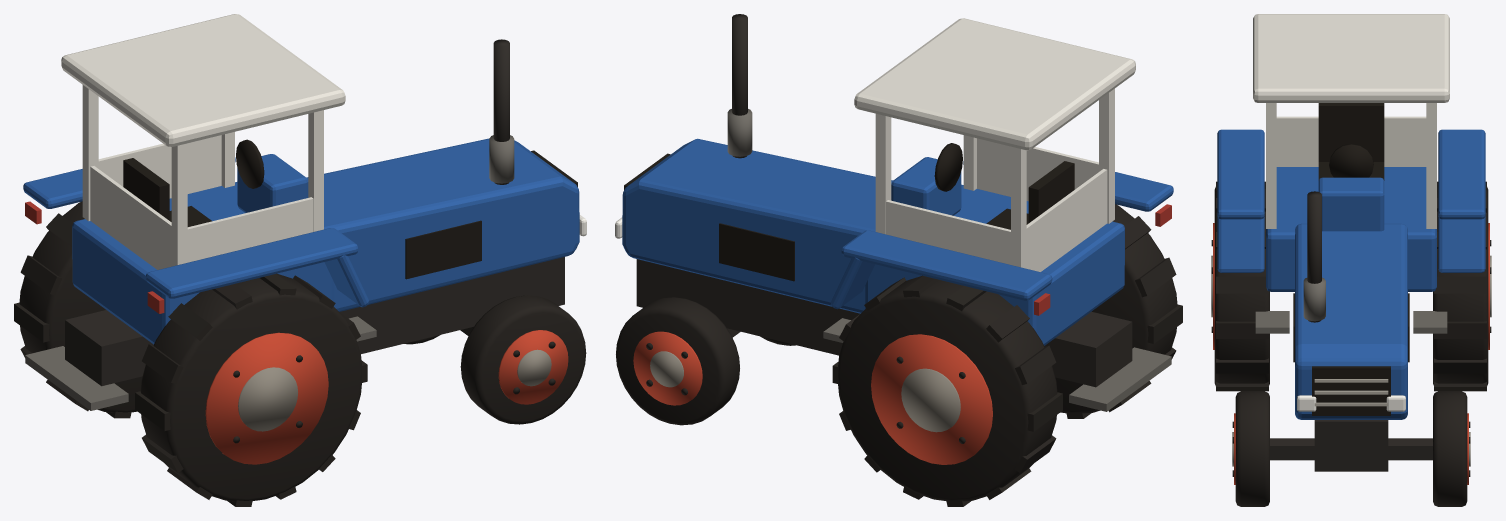
Rendered from VH_Tractor.glb.
3 views of the same model, side by side, from view 1: azimuth 30°, elevation 25°; view 2: azimuth 150°, elevation 25°; view 3: azimuth 270°, elevation 25° (orthographic). The views are drawn at different scales.
Visible parts, largest first — view 1: Cube; view 2: Cube; view 3: Cube.
Part boxes in pixels (x1=…): Cube: x1=14, y1=14, x2=586, y2=506; Cube: x1=615, y1=14, x2=1182, y2=506; Cube: x1=1211, y1=14, x2=1491, y2=506.
Bounding box in the file's own units: 3.96 × 2.82 × 2.13.
